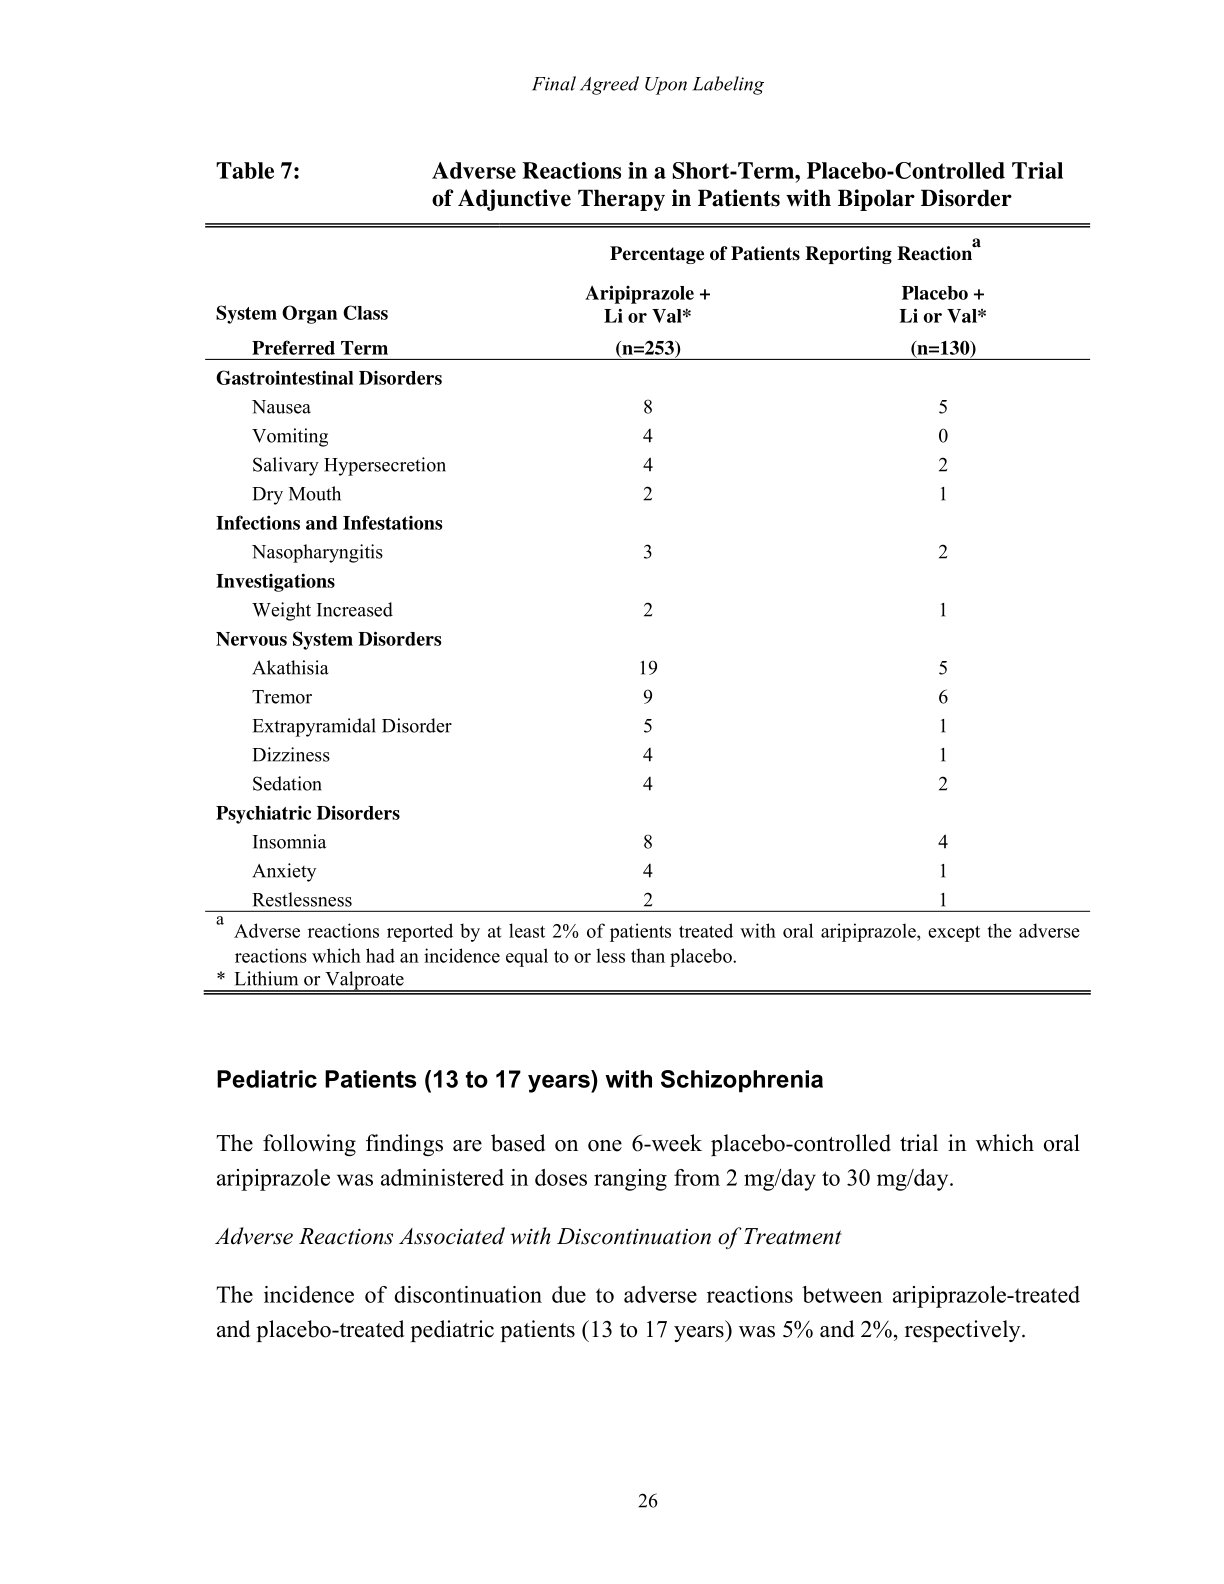partial_lined_merged_cells: (202, 221, 1092, 914)
